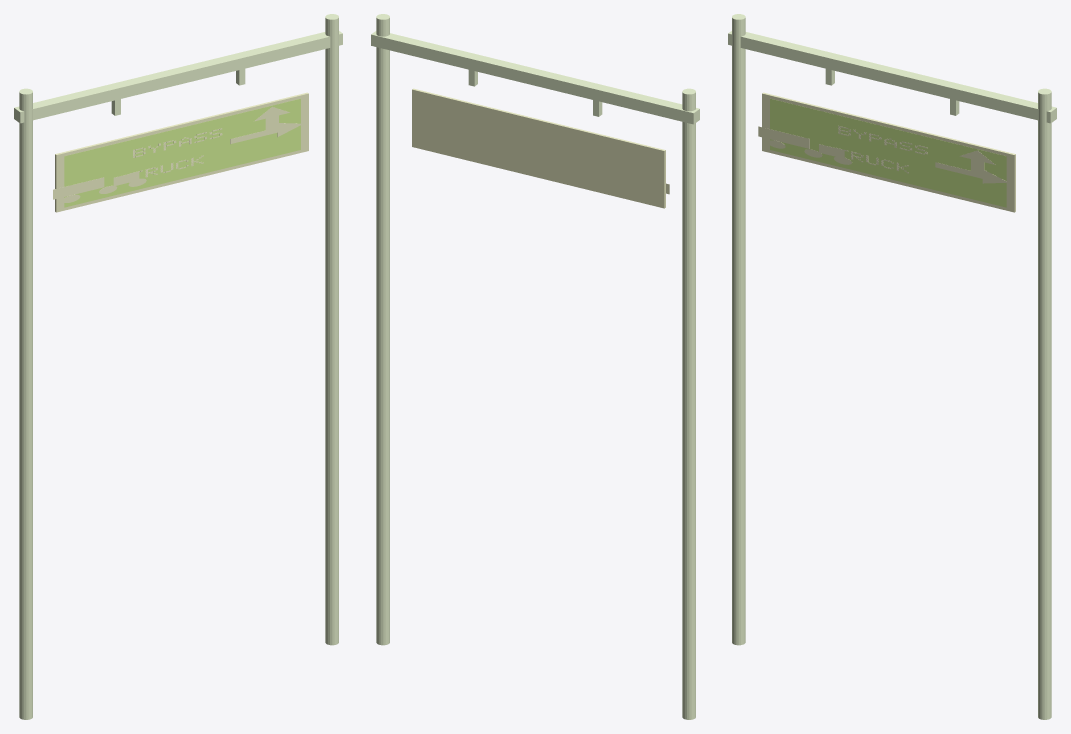
The model's file is sign_overhead_truck_bypass_right.glb.
3 renders of one model, left to right at view 1: azimuth 30°, elevation 25°; view 2: azimuth 150°, elevation 25°; view 3: azimuth 330°, elevation 25°, orthographic.
Parts seen in each view (by area): view 1: layer_1_00, pole_right, pole_left, crossbar, plate_base_00, layer_2_00; view 2: plate_base_00, pole_left, pole_right, crossbar; view 3: layer_1_00, pole_left, pole_right, crossbar, plate_base_00, layer_2_00.
Boxes of the visible parts, box(x1,y1,x2,y2) form: layer_1_00: box(64, 98, 300, 207); pole_right: box(325, 14, 338, 645); pole_left: box(19, 88, 32, 719); crossbar: box(14, 31, 342, 123); plate_base_00: box(55, 92, 308, 212); layer_2_00: box(53, 177, 104, 199); plate_base_00: box(412, 88, 665, 208); pole_left: box(682, 88, 695, 719); pole_right: box(376, 14, 389, 645); crossbar: box(371, 31, 699, 124); layer_1_00: box(770, 98, 1006, 207); pole_left: box(732, 14, 745, 645); pole_right: box(1038, 88, 1051, 719); crossbar: box(728, 31, 1056, 123); plate_base_00: box(762, 92, 1015, 212); layer_2_00: box(758, 126, 809, 148).
Bounding box in the file's own units: 2.7 × 5 × 0.108.
